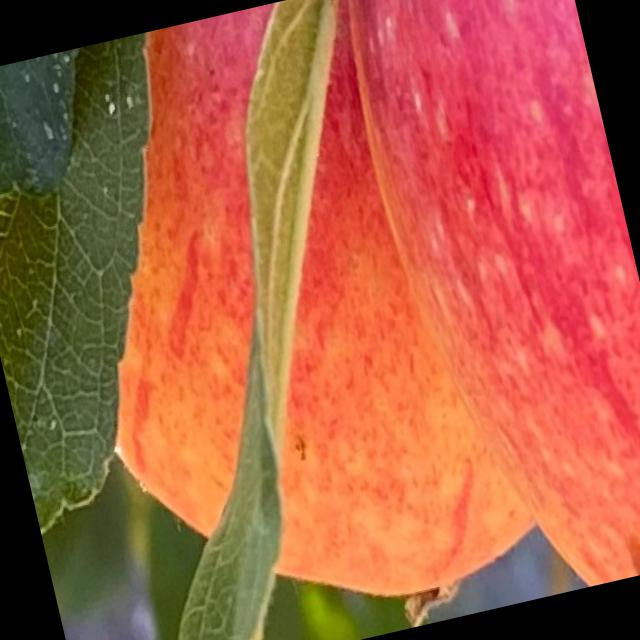Apples: (28, 0, 546, 639), (336, 0, 639, 610)
